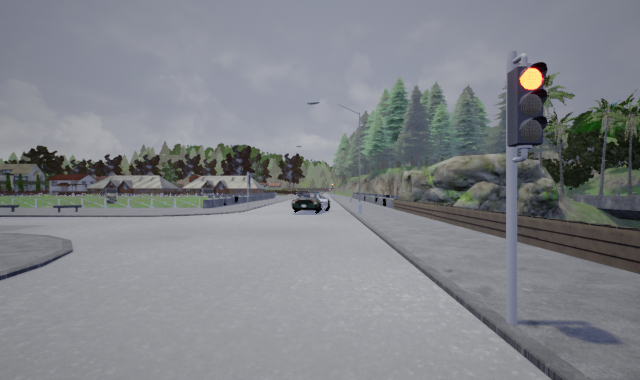traffic_light: (507, 62, 548, 147)
vehicle: (289, 191, 333, 214)
